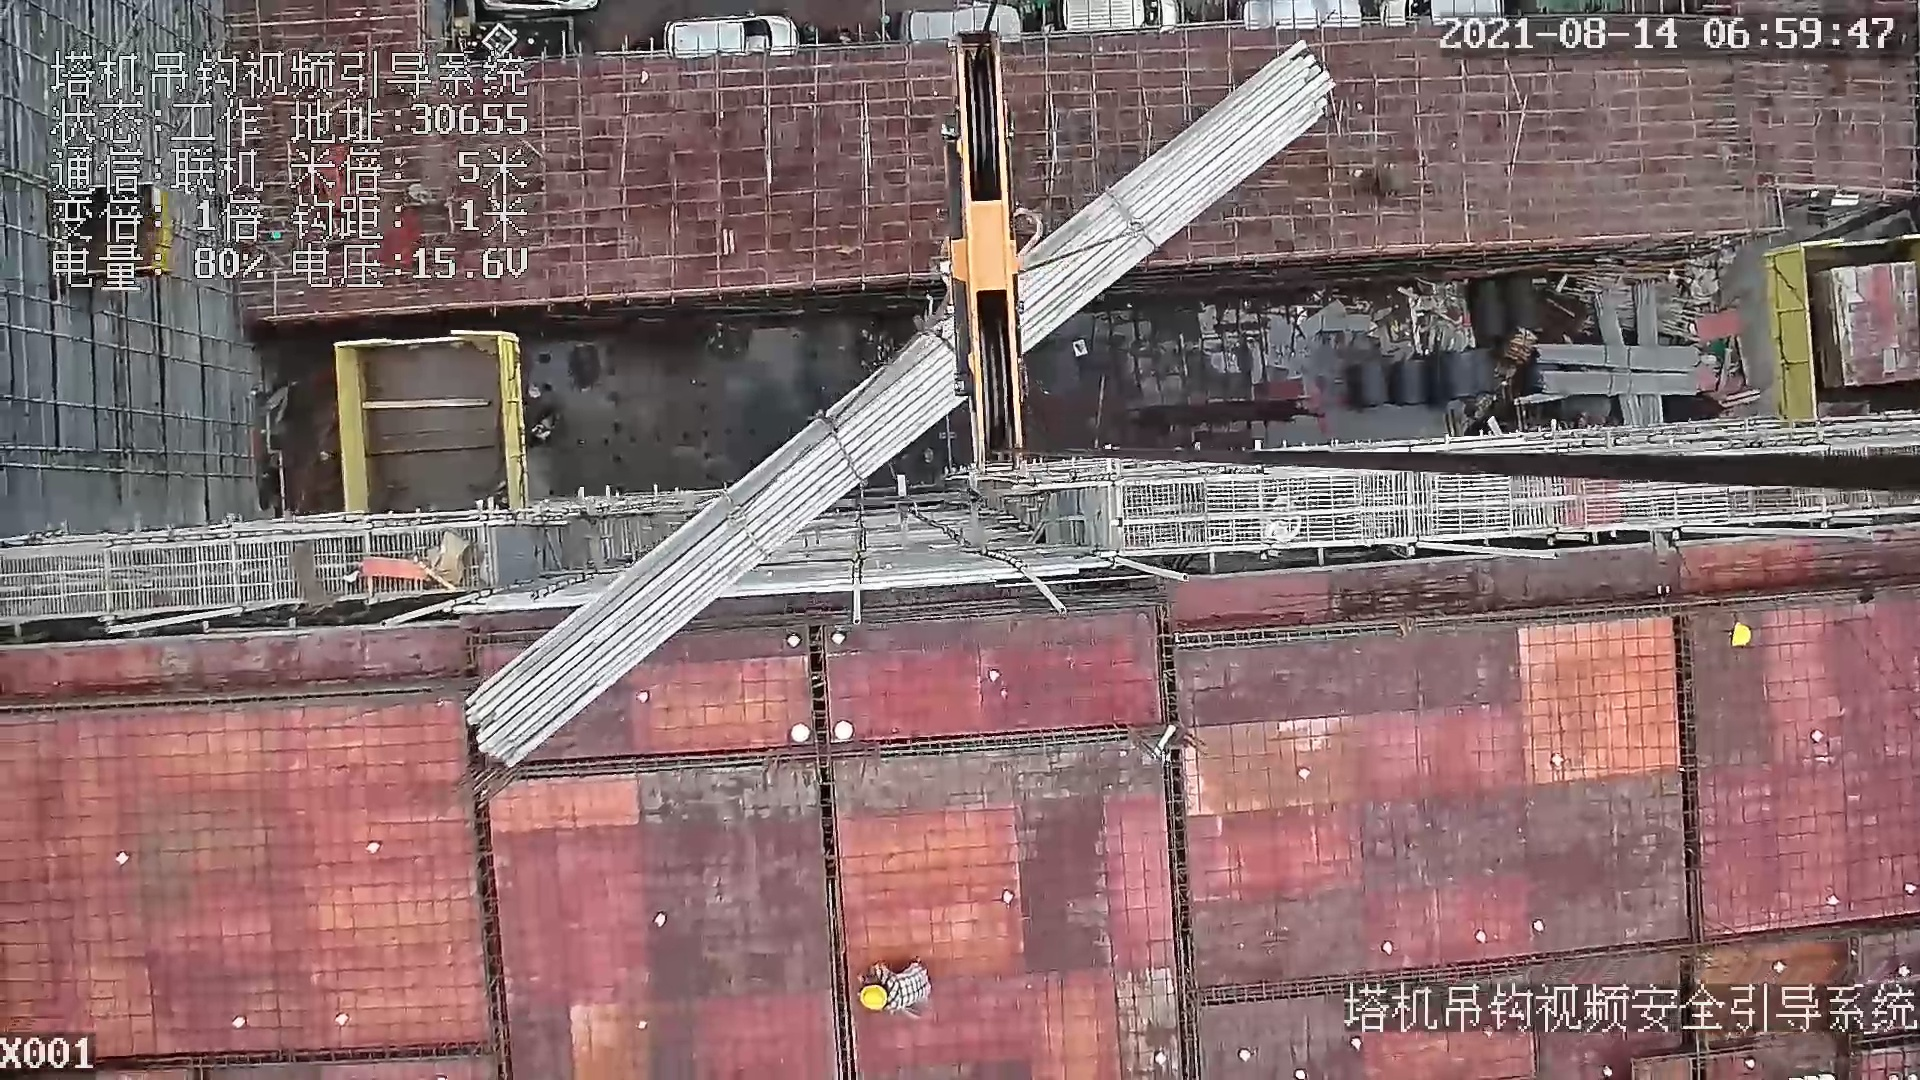board: (1815, 261, 1920, 391)
helmet: (861, 985, 887, 1011), (1730, 621, 1752, 647)
hook: (922, 23, 1053, 490)
person: (856, 960, 936, 1022)
rebar: (470, 49, 1324, 761), (1534, 343, 1703, 370), (1536, 372, 1705, 398), (1592, 289, 1624, 345), (1634, 279, 1659, 345)
